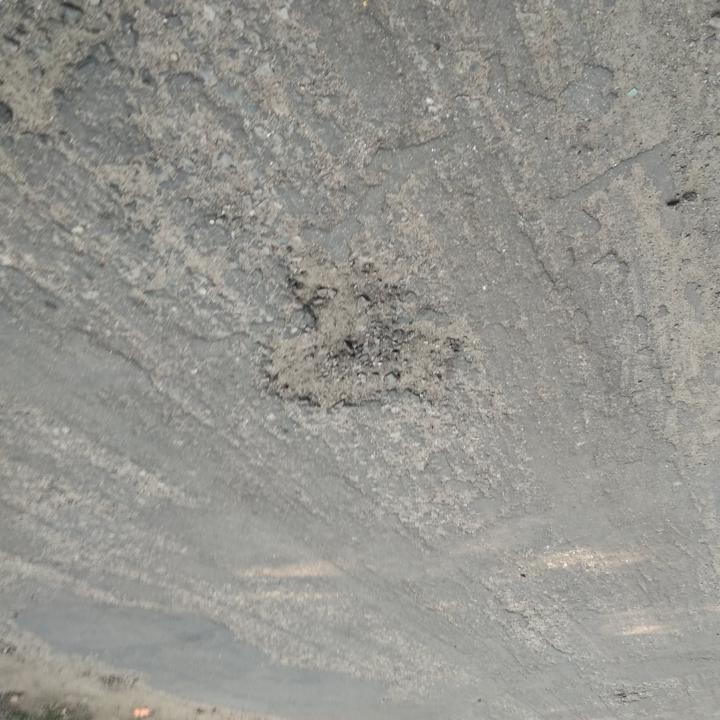pothole: (255, 249, 462, 421)
